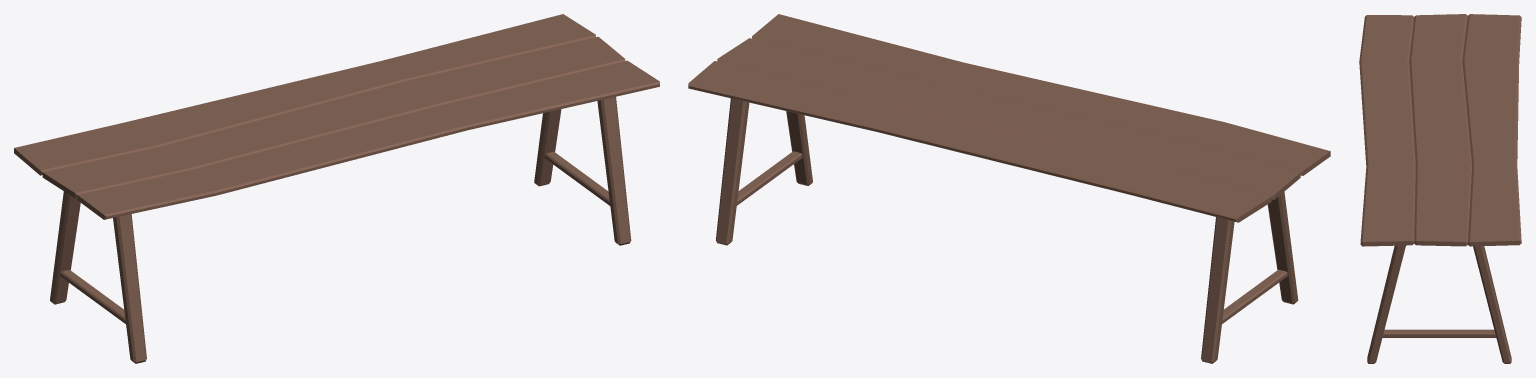
The model's file is table_b003.glb.
3 renders of one model, left to right at view 1: azimuth 30°, elevation 25°; view 2: azimuth 150°, elevation 25°; view 3: azimuth 270°, elevation 25°, orthographic. The views are drawn at different scales.
Visible parts, largest first — view 1: table_b003; view 2: table_b003; view 3: table_b003.
Boxes of the visible parts, left/top/right/bottom form: table_b003: left=14, top=14, right=659, bottom=363; table_b003: left=688, top=14, right=1330, bottom=363; table_b003: left=1359, top=14, right=1521, bottom=363.
Size of the model in its own units: 2.13 by 0.5777 by 0.6394.
1 material, 1 textured.
